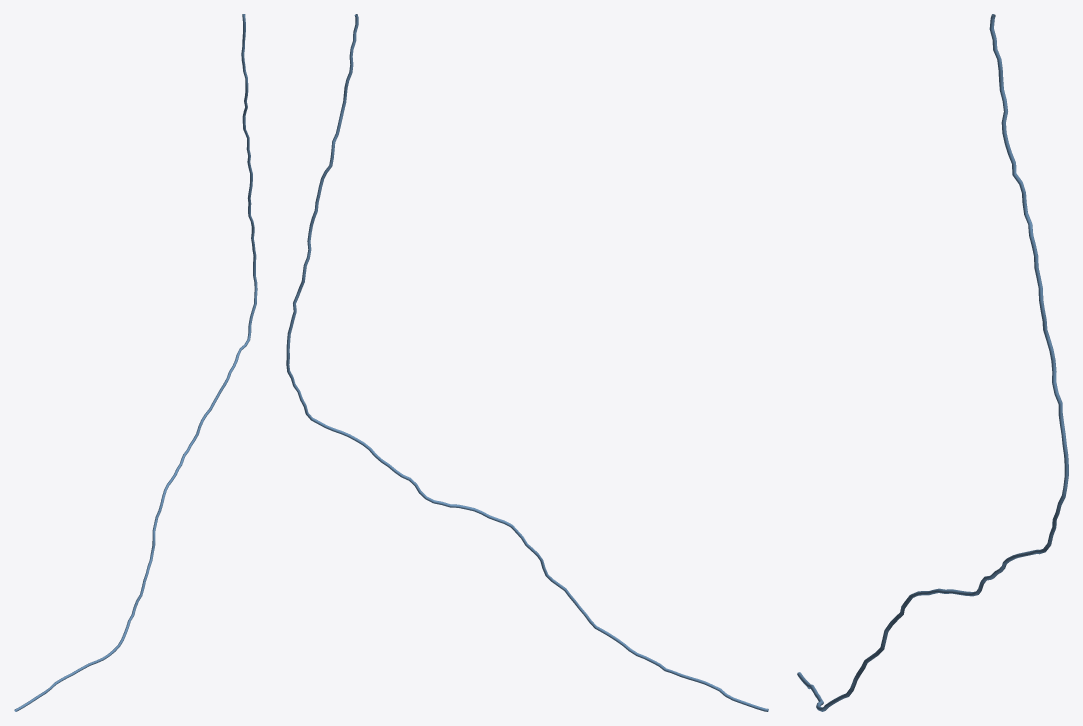
File: sweep133.fbx
The picture shows the model from 3 angles, left to right: view 1: azimuth 30°, elevation 25°; view 2: azimuth 150°, elevation 25°; view 3: azimuth 270°, elevation 25°; orthographic projection. The views are drawn at different scales.
Visible parts, largest first — view 1: sweep133; view 2: sweep133; view 3: sweep133.
Boxes of the visible parts, x1,y1,x2,y2 form: sweep133: (14, 14, 257, 711); sweep133: (286, 14, 768, 711); sweep133: (797, 14, 1068, 711).
Bounding box in the file's own units: 2.61 × 4.38 × 1.23.
